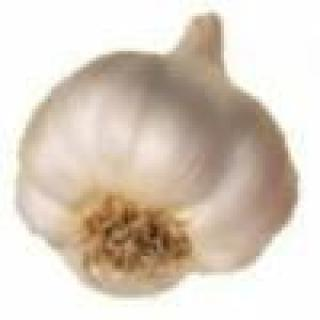Bawang Putih: (11, 14, 318, 295)
